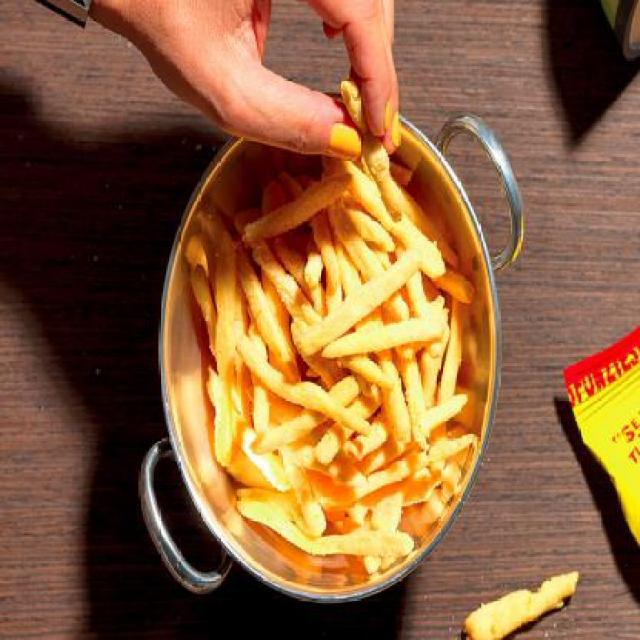Chips packaged: (200, 187, 454, 566)
